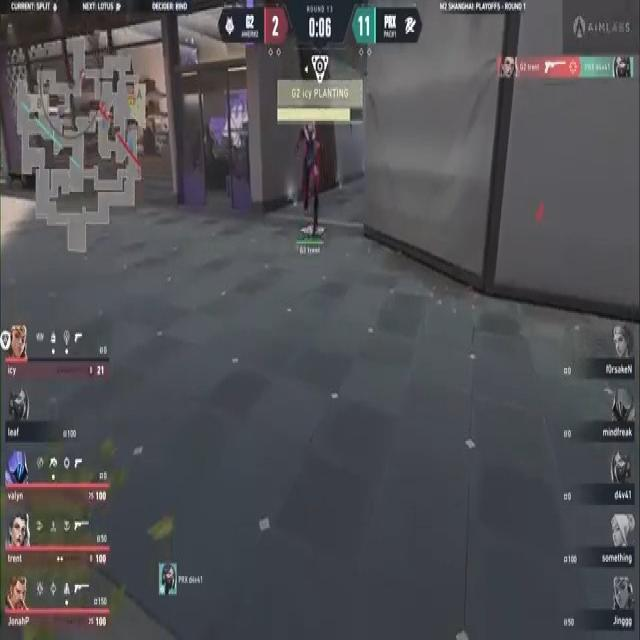enemy: (294, 121, 328, 246)
